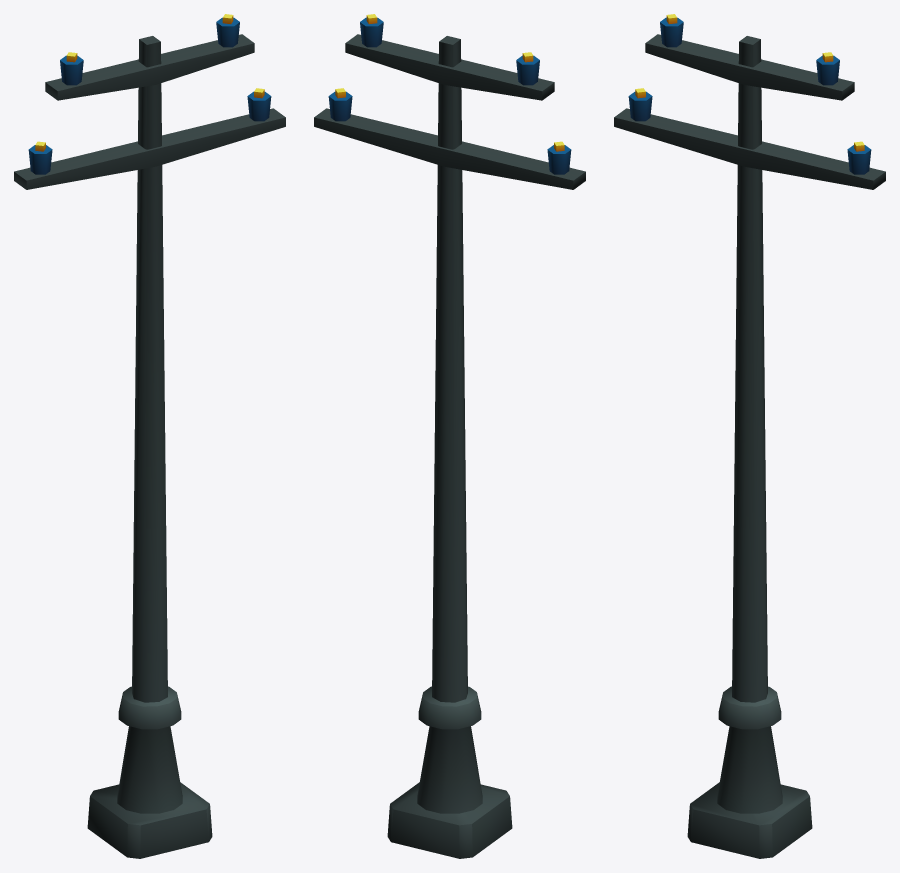
Rendered from Electric_Pole_1A.fbx.
The picture shows the model from 3 angles, left to right: view 1: azimuth 30°, elevation 25°; view 2: azimuth 150°, elevation 25°; view 3: azimuth 330°, elevation 25°; orthographic projection.
Parts seen in each view (by area): view 1: Electric_Pole_1A; view 2: Electric_Pole_1A; view 3: Electric_Pole_1A.
Boxes of the visible parts, x1,y1,x2,y2 form: Electric_Pole_1A: (14, 14, 285, 858); Electric_Pole_1A: (314, 14, 585, 858); Electric_Pole_1A: (614, 14, 885, 858).
Size of the model in its own units: 3.32 by 9.75 by 1.09.
